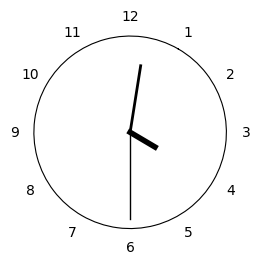12: (122, 9, 139, 23)
circle: (34, 36, 227, 229)
hours: (127, 129, 159, 150)
minutes: (129, 65, 142, 129)
seconds: (128, 134, 132, 220)
